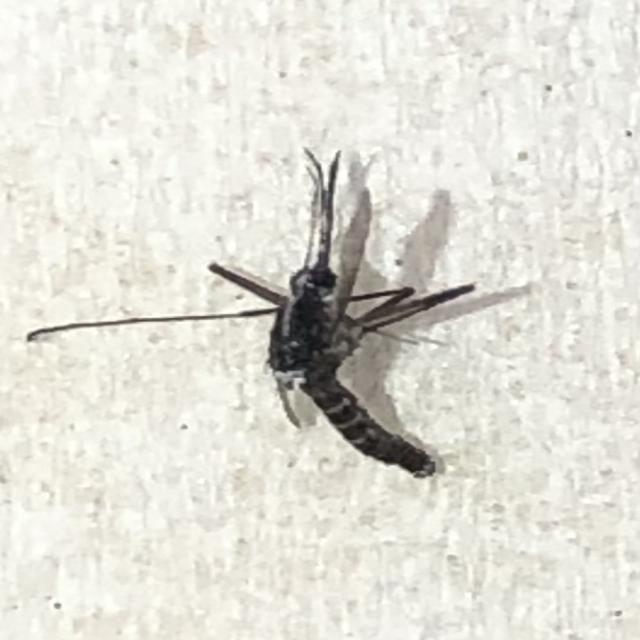albopictus: (53, 126, 525, 502)
